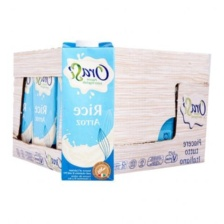carton: (54, 37, 119, 185)
